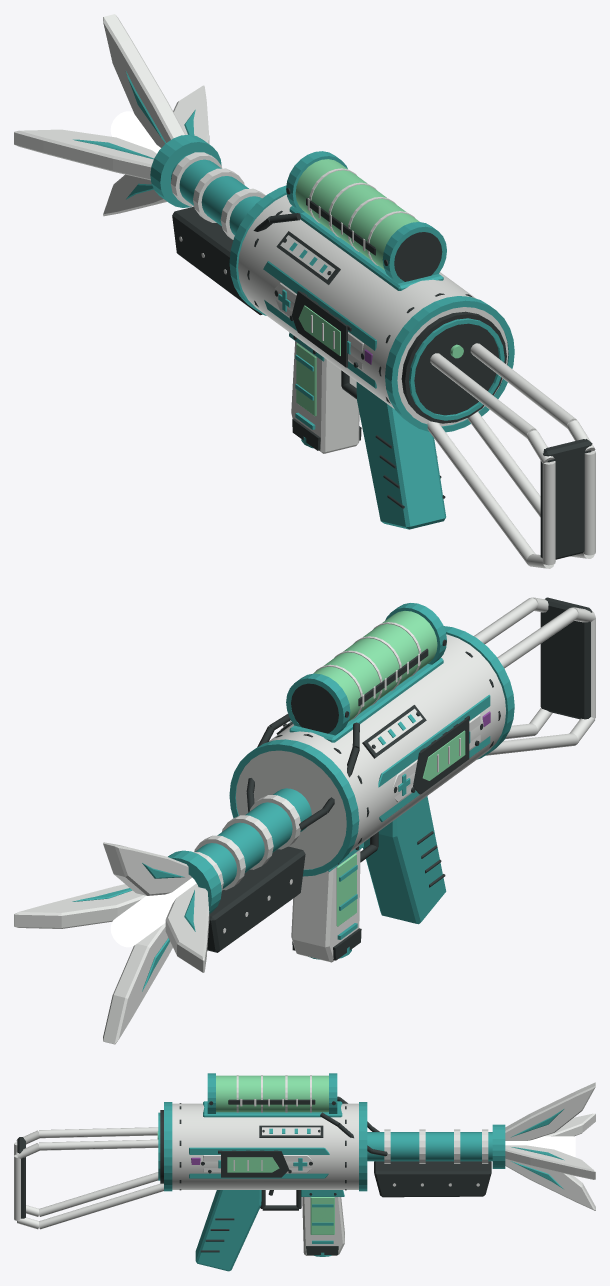
The model's file is medic_3.glb.
3 views of the same model, one above another, from view 1: azimuth 30°, elevation 25°; view 2: azimuth 150°, elevation 25°; view 3: azimuth 270°, elevation 25° (orthographic). The views are drawn at different scales.
Visible parts, largest first — view 1: Weapon_medic_v1; view 2: Weapon_medic_v1; view 3: Weapon_medic_v1.
Part boxes in pixels (x1=…): Weapon_medic_v1: x1=14, y1=14, x2=595, y2=568; Weapon_medic_v1: x1=14, y1=597, x2=595, y2=1044; Weapon_medic_v1: x1=14, y1=1073, x2=595, y2=1271.
Bounding box in the file's own units: 0.1982 × 0.3022 × 0.8351.
